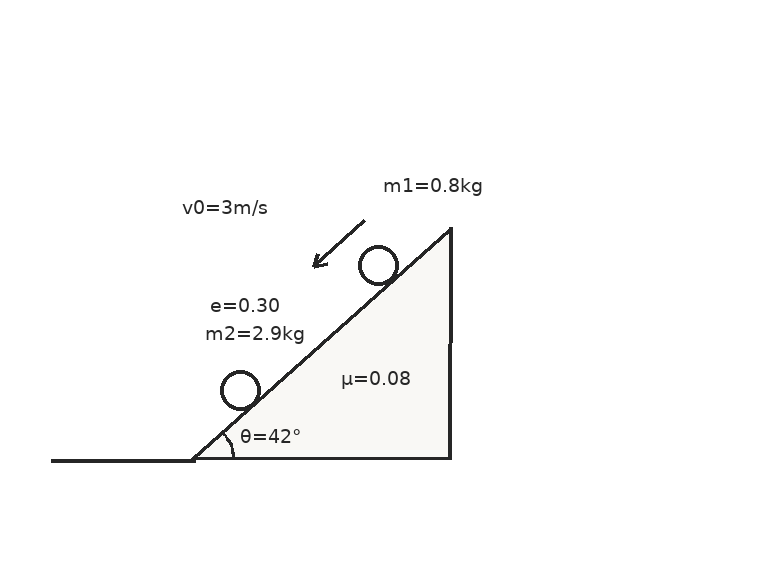ball: (356, 244, 400, 288), (218, 368, 262, 412)
ramp: (191, 226, 451, 461)
